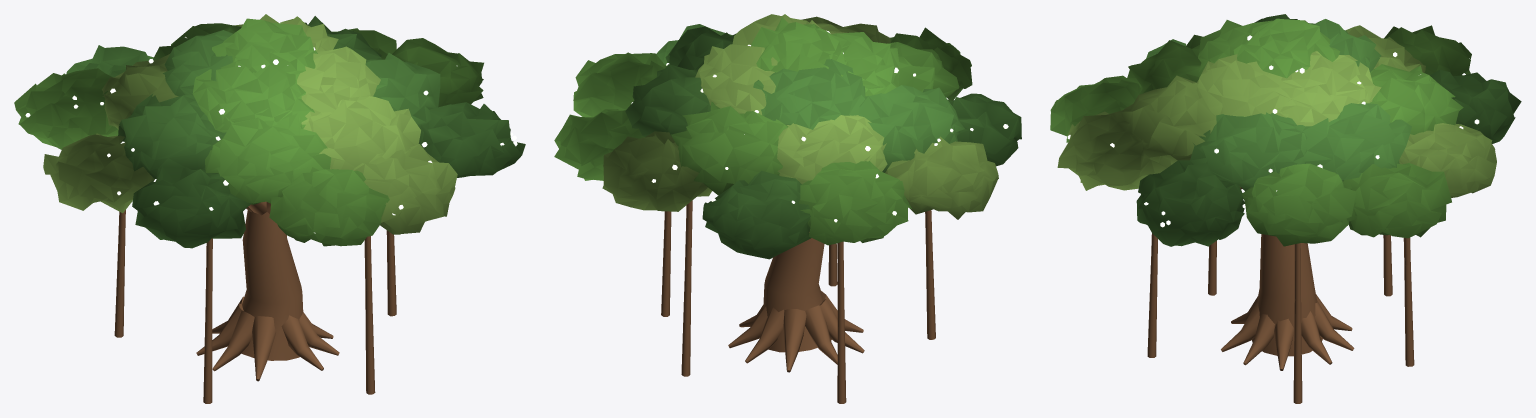
The model's file is ZB_dunya_tuba_dev.glb.
3 views of the same model, side by side, from view 1: azimuth 30°, elevation 25°; view 2: azimuth 150°, elevation 25°; view 3: azimuth 270°, elevation 25° (orthographic). The views are drawn at different scales.
Parts seen in each view (by area): view 1: ZB_dunya_tuba_dev; view 2: ZB_dunya_tuba_dev; view 3: ZB_dunya_tuba_dev.
Part boxes in pixels (x1,y1,x2,y2): ZB_dunya_tuba_dev: (14,14,525,403); ZB_dunya_tuba_dev: (554,14,1021,403); ZB_dunya_tuba_dev: (1050,14,1521,403).
Bounding box in the file's own units: 543 × 400 × 540.
